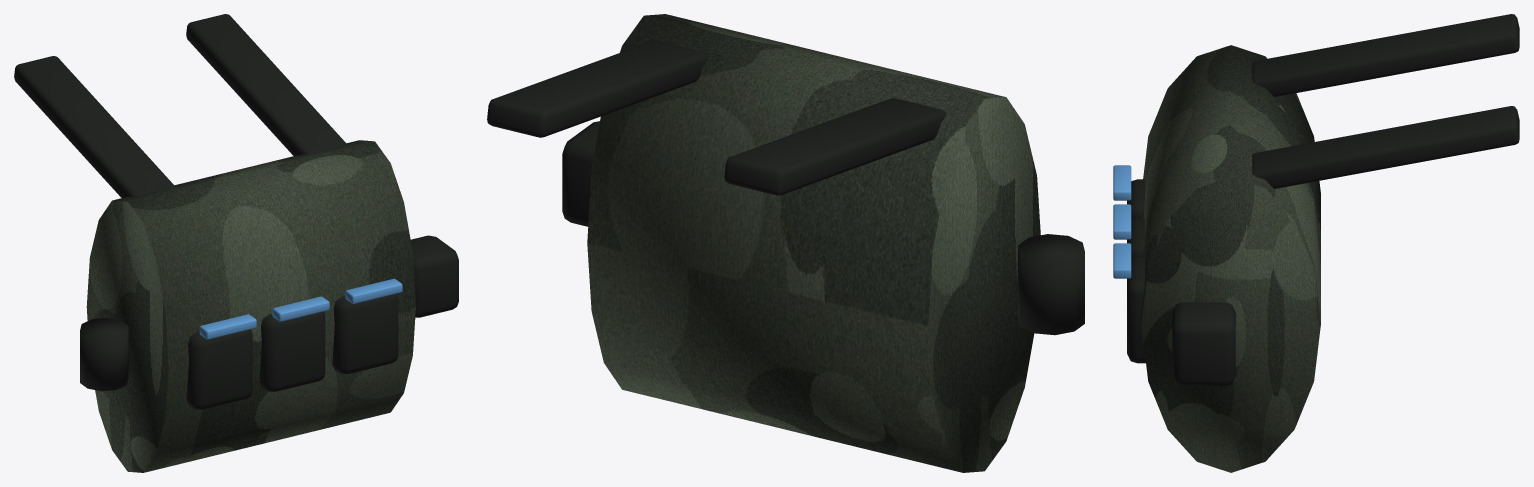
Rendered from gear_rig_tactical.glb.
3 views of the same model, side by side, from view 1: azimuth 30°, elevation 25°; view 2: azimuth 150°, elevation 25°; view 3: azimuth 270°, elevation 25° (orthographic). The views are drawn at different scales.
Parts seen in each view (by area): view 1: Gear; view 2: Gear; view 3: Gear.
Part boxes in pixels (<box>): Gear: <box>14,14,458,472</box>; Gear: <box>487,14,1084,472</box>; Gear: <box>1113,14,1519,472</box>.
Bounding box in the file's own units: 0.5085 × 0.4109 × 0.4483.
4 materials, 2 textured.
